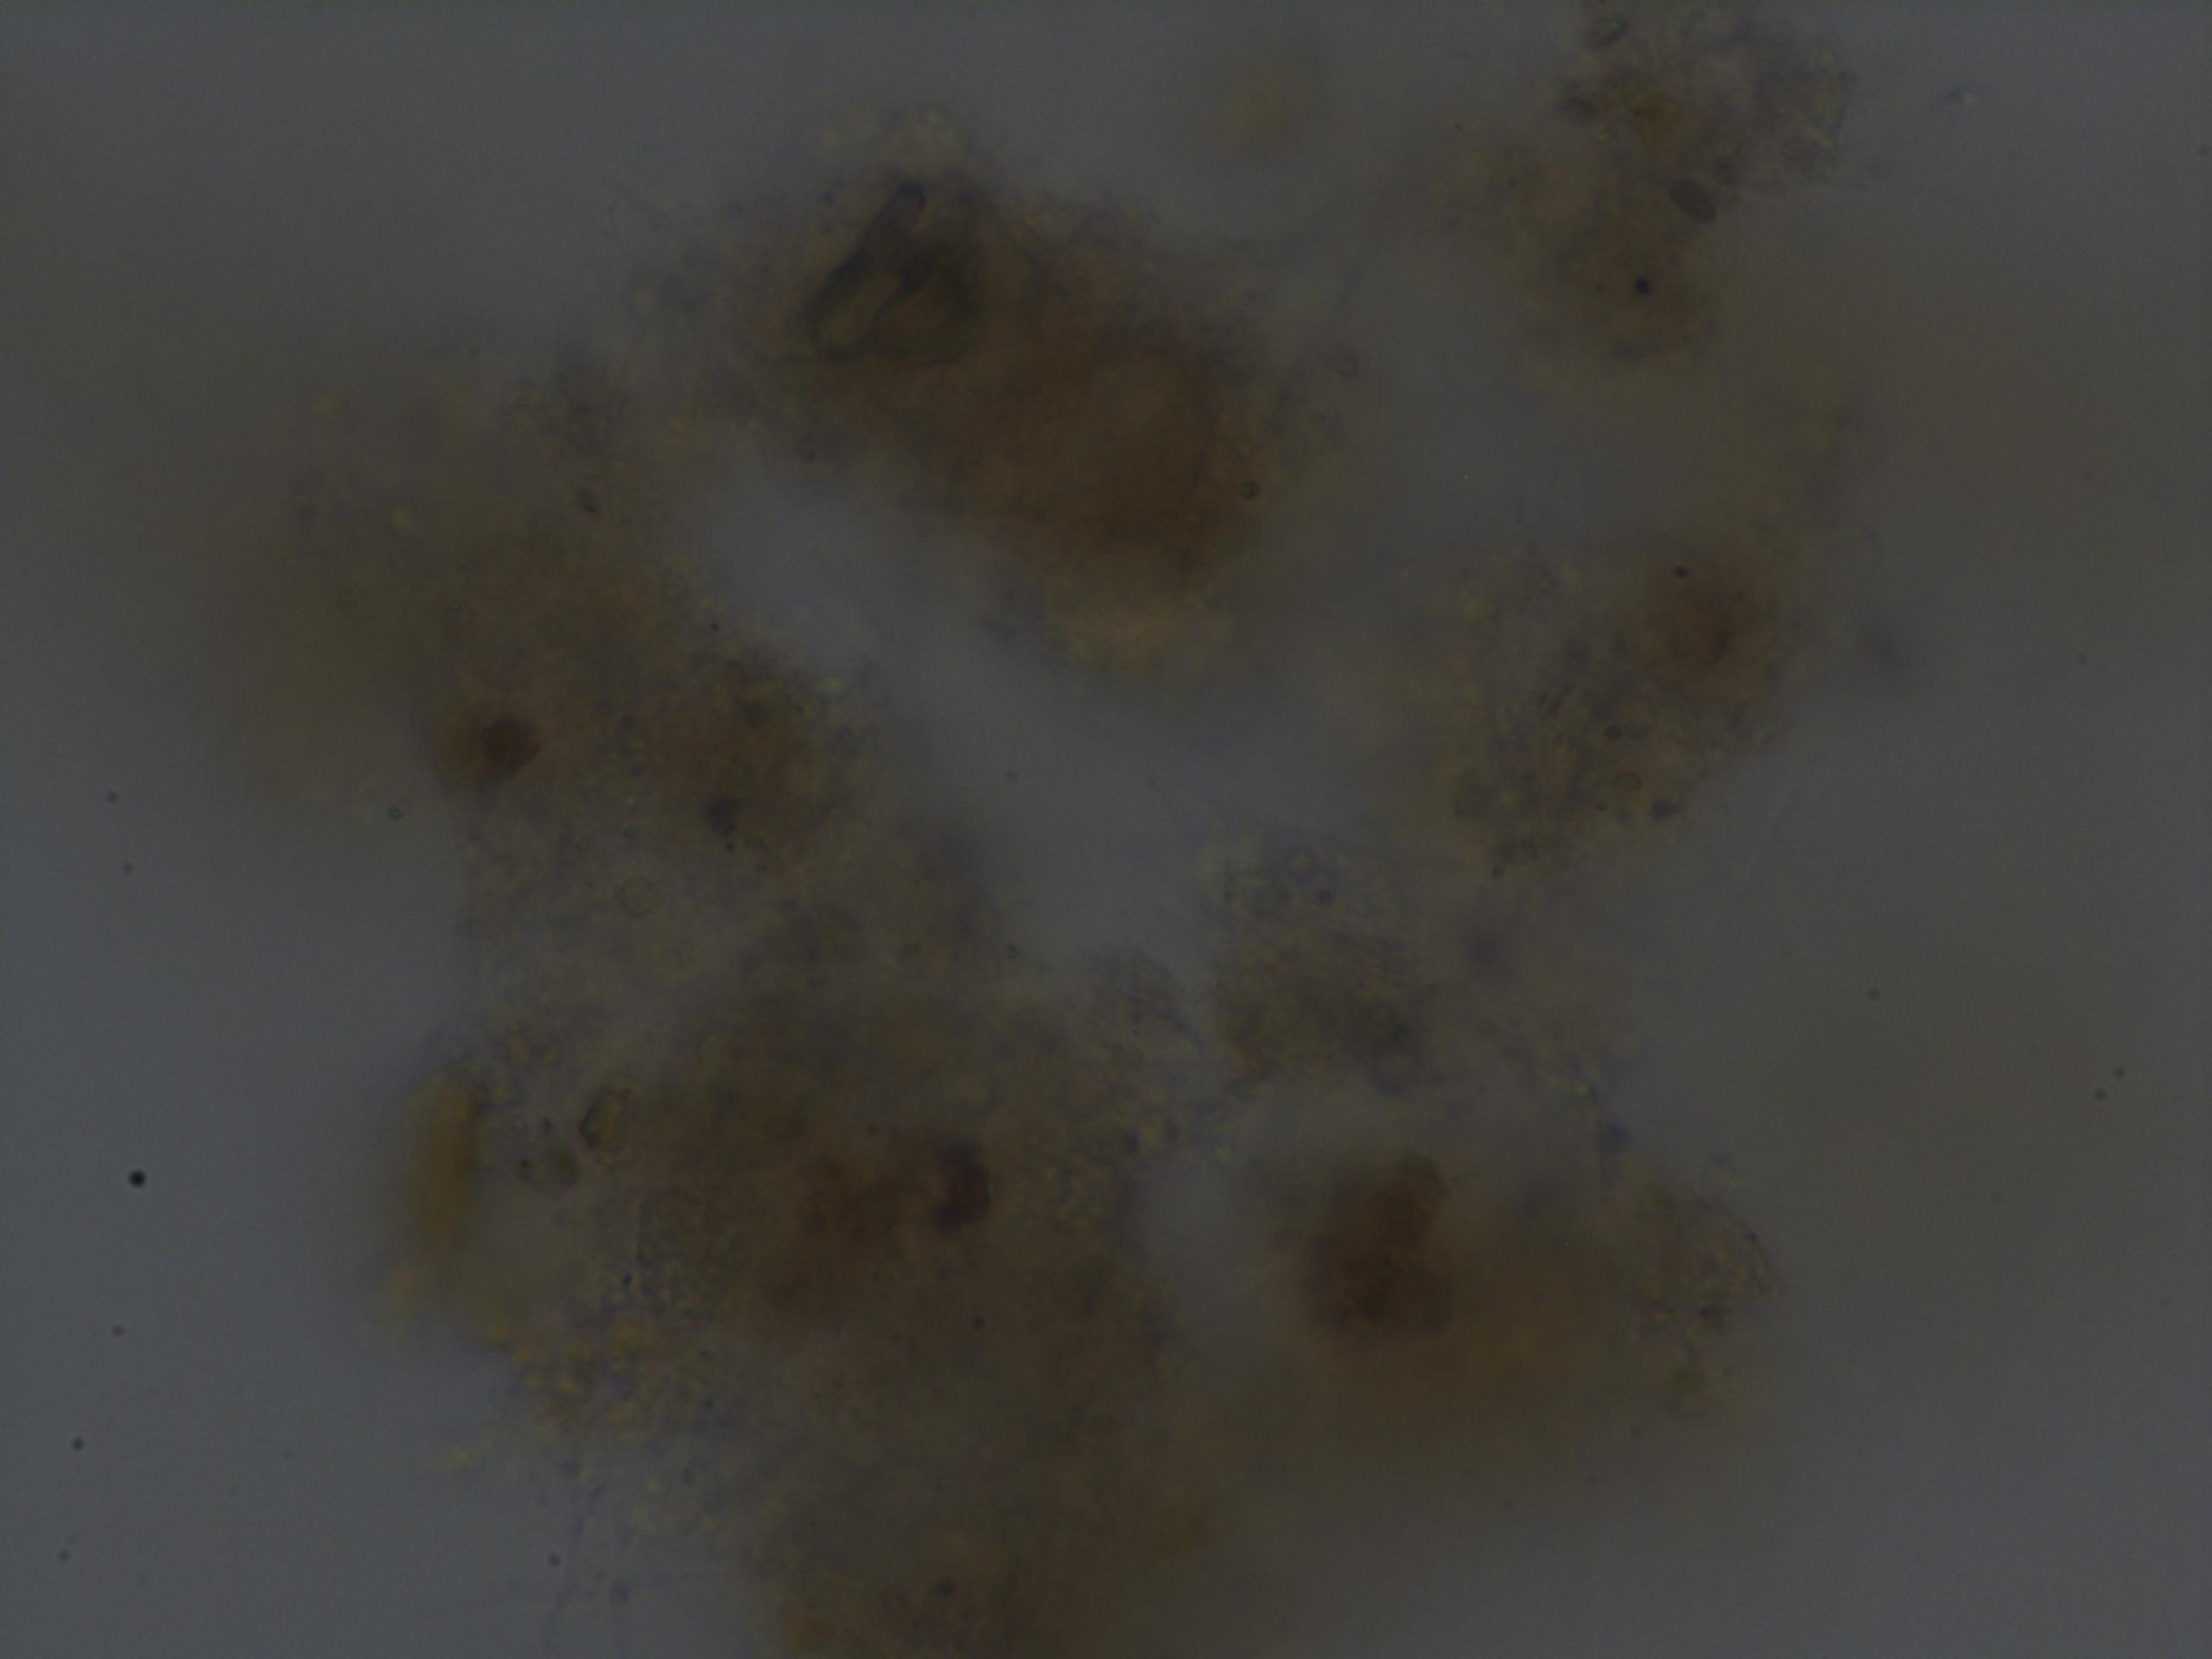open_floc: (216, 2, 1885, 1659)
